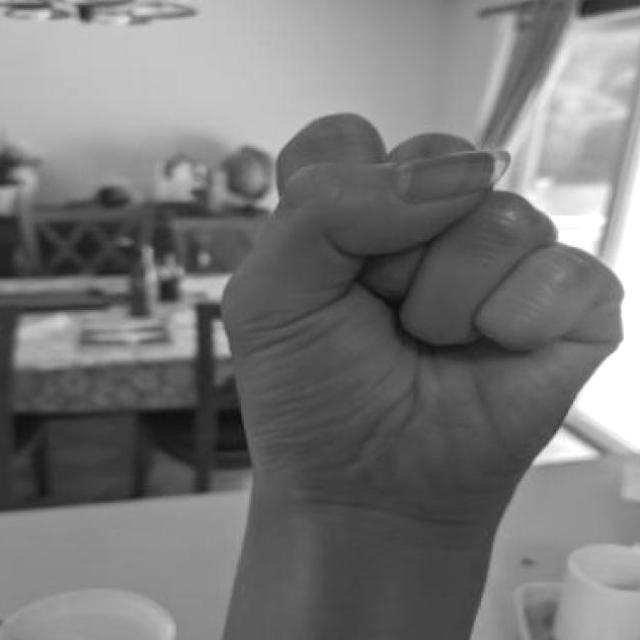S: (207, 108, 636, 563)
